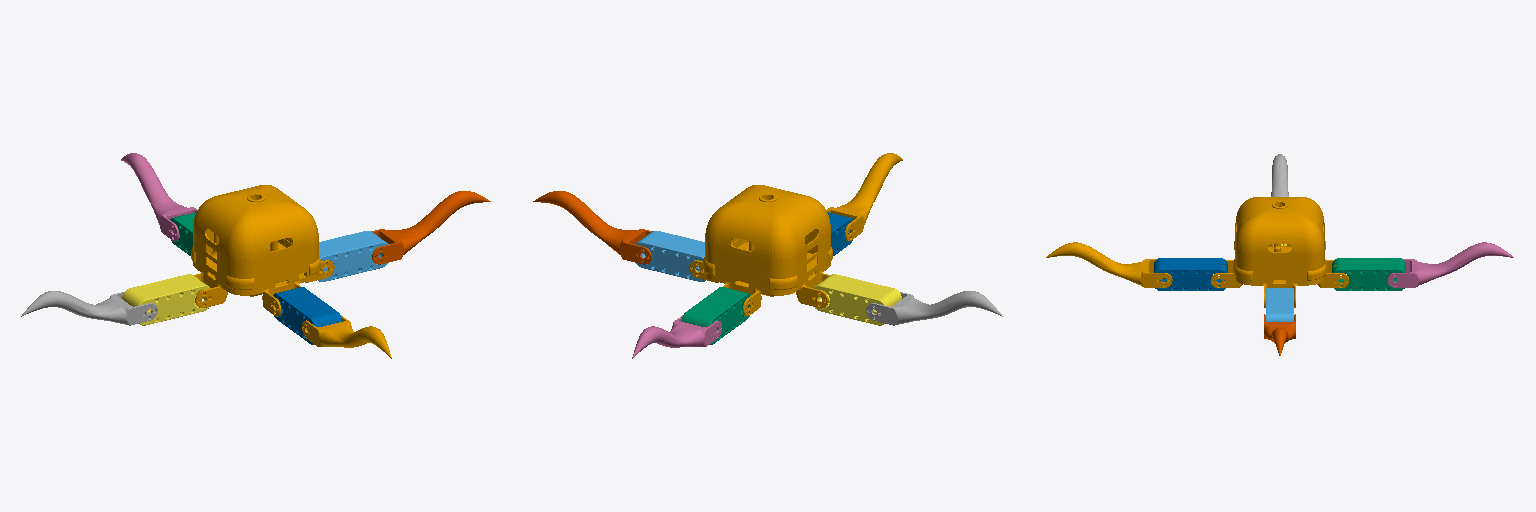
robot.urdf — spyndra:
<?xml version="1.0"?>
<robot name="spyndra">
  <gazebo>
    <plugin name="gazebo_ros_control" filename="libgazebo_ros_control.so">
      <robotNamespace>/spyndra</robotNamespace>
    </plugin>
  </gazebo>
  
  <gazebo>
    <plugin name="imu_plugin" filename="libgazebo_ros_imu.so">
      <alwaysOn>true</alwaysOn>
      <bodyName>base_link</bodyName>
      <topicName>imu</topicName>
      <serviceName>imu_service</serviceName>
      <gaussianNoise>0.0</gaussianNoise>
      <updateRate>20.0</updateRate>
    </plugin>
  </gazebo>

  <gazebo reference="base_link">
    <selfCollide>true</selfCollide>
  </gazebo>

  <gazebo reference="femur_1">
    <selfCollide>true</selfCollide>
  </gazebo>

  <gazebo reference="femur_2">
    <selfCollide>true</selfCollide>
  </gazebo>

  <gazebo reference="femur_3">
    <selfCollide>true</selfCollide>
  </gazebo>

  <gazebo reference="femur_4">
    <selfCollide>true</selfCollide>
  </gazebo>

  <gazebo reference="tibia_1">
    <selfCollide>true</selfCollide>
  </gazebo>

  <gazebo reference="tibia_2">
    <selfCollide>true</selfCollide>
  </gazebo>

  <gazebo reference="tibia_3">
    <selfCollide>true</selfCollide>
  </gazebo>

  <gazebo reference="tibia_4">
    <selfCollide>true</selfCollide>
  </gazebo>

  <link name="base_link">
    <visual>
      <geometry>
        <mesh filename="package://spyndra_description/meshes/chassis.stl"/>
      </geometry>
      <origin rpy="0 0 0" xyz="0 0 0"/>
    </visual>
    <collision>
      <geometry>
        <mesh filename="package://spyndra_description/meshes/chassis_col.stl"/>
      </geometry>
      <origin rpy="0 0 0" xyz="0 0 0"/>
    </collision>
    <inertial>
      <origin xyz="0 0 0" rpy="0 0 0"/>
      <mass value="0.5"/>
      <inertia
        ixx="0.084981" ixy="0.000124" ixz="-0.000077"
        iyy="0.083196" iyz="-0.000128"
        izz="0.099084"/>
    </inertial>
  </link>

  <link name="femur_1">
    <visual>
      <geometry>
        <mesh filename="package://spyndra_description/meshes/femur.stl"/>
      </geometry>
      <origin rpy="0 0 0" xyz="0.4 0 0"/>
    </visual>
    <collision>
      <geometry>
        <mesh filename="package://spyndra_description/meshes/femur_col.stl"/>
      </geometry>
      <origin rpy="0 0 0" xyz="0.4 0 0"/>
    </collision>
    <inertial>
      <origin rpy="0 0 0" xyz="0.4 0 0"/>
      <mass value="0.1"/>
      <inertia
        ixx="0.001433" ixy="0.000000" ixz="0.000000"
        iyy="0.004311" iyz="0.000000"
        izz="0.004255"/>
    </inertial>
  </link>

  <link name="femur_2">
    <visual>
      <geometry>
        <mesh filename="package://spyndra_description/meshes/femur.stl"/>
      </geometry>
      <origin rpy="0 0 1.57075" xyz="0 0.4 0"/>
    </visual>
    <collision>
      <geometry>
        <mesh filename="package://spyndra_description/meshes/femur_col.stl"/>
      </geometry>
      <origin rpy="0 0 1.57075" xyz="0 0.4 0"/>
    </collision>
    <inertial>
      <origin rpy="0 0 1.57075" xyz="0 0.4 0"/>
      <mass value="0.1"/>
      <inertia
        ixx="0.001433" ixy="0.000000" ixz="0.000000"
        iyy="0.004311" iyz="0.000000"
        izz="0.004255"/>
    </inertial>
  </link>

  <link name="femur_3">
    <visual>
      <geometry>
        <mesh filename="package://spyndra_description/meshes/femur.stl"/>
      </geometry>
      <origin rpy="0 0 3.1415" xyz="-0.4 0 0"/>
    </visual>
    <collision>
      <geometry>
        <mesh filename="package://spyndra_description/meshes/femur_col.stl"/>
      </geometry>
      <origin rpy="0 -0 3.1415" xyz="-0.4 0 0"/>
    </collision>
    <inertial>
      <origin rpy="0 0 3.1415" xyz="-0.4 0 0"/>
      <mass value="0.1"/>
      <inertia
        ixx="0.001433" ixy="0.000000" ixz="0.000000"
        iyy="0.004311" iyz="0.000000"
        izz="0.004255"/>
    </inertial>
  </link>

  <link name="femur_4">
    <visual>
      <geometry>
        <mesh filename="package://spyndra_description/meshes/femur.stl"/>
      </geometry>
      <origin rpy="0 0 -1.57075" xyz="0 -0.4 0"/>
    </visual>
    <collision>
      <geometry>
        <mesh filename="package://spyndra_description/meshes/femur_col.stl"/>
      </geometry>
      <origin rpy="0 0 -1.57075" xyz="0 -0.4 0"/>
    </collision>
    <inertial>
      <origin rpy="0 0 -1.57075" xyz="0 -0.4 0"/>
      <mass value="0.1"/>
      <inertia
        ixx="0.001433" ixy="0.000000" ixz="0.000000"
        iyy="0.004311" iyz="0.000000"
        izz="0.004255"/>
    </inertial>
  </link>

  <link name="tibia_1">
    <visual>
      <geometry>
        <mesh filename="package://spyndra_description/meshes/tibia.stl"/>
      </geometry>
      <origin rpy="1.57075 0 -1.57075" xyz="0.8 0 0.2"/>
    </visual>
    <collision>
      <geometry>
        <mesh filename="package://spyndra_description/meshes/tibia_col.stl"/>
      </geometry>
      <origin rpy="1.57075 0 -1.57075" xyz="0.8 0 0.2"/>
    </collision>
    <inertial>
      <origin rpy="1.57075 0 -1.57075" xyz="0.8 0 0.2"/>
      <mass value="0.1"/>
      <inertia
        ixx="0.012986" ixy="0.000000" ixz="0.000000"
        iyy="0.012051" iyz="0.003922"
        izz="0.002521"/>
    </inertial>
  </link>

  <link name="tibia_2">
    <visual>
      <geometry>
        <mesh filename="package://spyndra_description/meshes/tibia.stl"/>
      </geometry>
      <origin rpy="1.57075 0 0" xyz="0 0.8 0.2"/>
    </visual>
    <collision>
      <geometry>
        <mesh filename="package://spyndra_description/meshes/tibia_col.stl"/>
      </geometry>
      <origin rpy="1.57075 0 0" xyz="0 0.8 0.2"/>
    </collision>
    <inertial>
      <origin rpy="1.57075 0 0" xyz="0 0.8 0.2"/>
      <mass value="0.1"/>
      <inertia
        ixx="0.012986" ixy="0.000000" ixz="0.000000"
        iyy="0.012051" iyz="0.003922"
        izz="0.002521"/>
    </inertial>
  </link>

  <link name="tibia_3">
    <visual>
      <geometry>
        <mesh filename="package://spyndra_description/meshes/tibia.stl"/>
      </geometry>
      <origin rpy="1.57075 0 1.57075" xyz="-0.8 0 0.2"/>
    </visual>
    <collision>
      <geometry>
        <mesh filename="package://spyndra_description/meshes/tibia_col.stl"/>
      </geometry>
      <origin rpy="1.57075 0 1.57075" xyz="-0.8 0 0.2"/>
    </collision>
    <inertial>
      <origin rpy="1.57075 0 1.57075" xyz="-0.8 0 0.2"/>
      <mass value="0.1"/>
      <inertia
        ixx="0.012986" ixy="0.000000" ixz="0.000000"
        iyy="0.012051" iyz="0.003922"
        izz="0.002521"/>
    </inertial>
  </link>

  <link name="tibia_4">
    <visual>
      <geometry>
        <mesh filename="package://spyndra_description/meshes/tibia.stl"/>
      </geometry>
      <origin rpy="1.57075 0 3.1415" xyz="0 -0.8 0.2"/>
    </visual>
    <collision>
      <geometry>
        <mesh filename="package://spyndra_description/meshes/tibia_col.stl"/>
      </geometry>
      <origin rpy="1.57075 0 3.1415" xyz="0 -0.8 0.2"/>
    </collision>
    <inertial>
      <origin rpy="1.57075 0 3.1415" xyz="0 -0.8 0.2"/>
      <mass value="0.1"/>
      <inertia
        ixx="0.012986" ixy="0.000000" ixz="0.000000"
        iyy="0.012051" iyz="0.003922"
        izz="0.002521"/>
    </inertial>
  </link>

  <joint name="base_to_femur_1" type="revolute">
    <origin rpy="0 0 0" xyz="0.9 0 -0.2"/>
    <axis xyz="0 1 0"/>
    <limit effort="200.0" lower="-1.5" upper="1.5" velocity="0.1"/>
    <parent link="base_link"/>
    <child link="femur_1"/>
  </joint>

  <joint name="base_to_femur_2" type="revolute">
    <origin rpy="0 0 0" xyz="0 0.9 -0.2"/>
    <axis xyz="-1 0 0"/>
    <limit effort="200.0" lower="-1.5" upper="1.5" velocity="0.1"/>
    <parent link="base_link"/>
    <child link="femur_2"/>
  </joint>

  <joint name="base_to_femur_3" type="revolute">
    <origin rpy="0 0 0" xyz="-0.9 0 -0.2"/>
    <axis xyz="0 -1 0"/>
    <limit effort="200.0" lower="-1.5" upper="1.5" velocity="0.1"/>
    <parent link="base_link"/>
    <child link="femur_3"/>
  </joint>

  <joint name="base_to_femur_4" type="revolute">
    <origin rpy="0 0 0" xyz="0 -0.9 -0.2"/>
    <axis xyz="1 0 0"/>
    <limit effort="200.0" lower="-1.5" upper="1.5" velocity="0.1"/>
    <parent link="base_link"/>
    <child link="femur_4"/>
  </joint>

  <joint name="femur_to_tibia_1" type="revolute">
    <origin rpy="0 0 0" xyz="0.8 0 0"/>
    <axis xyz="0 1 0"/>
    <limit effort="200.0" lower="-1.5" upper="1.5" velocity="0.1"/>
    <parent link="femur_1"/>
    <child link="tibia_1"/>
  </joint>

  <joint name="femur_to_tibia_2" type="revolute">
    <origin rpy="0 0 0" xyz="0 0.8 0"/>
    <axis xyz="-1 0 0"/>
    <limit effort="200.0" lower="-1.5" upper="1.5" velocity="0.1"/>
    <parent link="femur_2"/>
    <child link="tibia_2"/>
  </joint>

  <joint name="femur_to_tibia_3" type="revolute">
    <origin rpy="0 0 0" xyz="-0.8 0 0"/>
    <axis xyz="0 -1 0"/>
    <limit effort="200.0" lower="-1.5" upper="1.5" velocity="0.1"/>
    <parent link="femur_3"/>
    <child link="tibia_3"/>
  </joint>

  <joint name="femur_to_tibia_4" type="revolute">
    <origin rpy="0 0 0" xyz="0 -0.8 0"/>
    <axis xyz="1 0 0"/>
    <limit effort="200.0" lower="-1.5" upper="1.5" velocity="0.1"/>
    <parent link="femur_4"/>
    <child link="tibia_4"/>
  </joint>

  <transmission name="tran1">
    <type>transmission_interface/SimpleTransmission</type>
    <joint name="base_to_femur_1">
      <hardwareInterface>EffortJointInterface</hardwareInterface>
    </joint>
    <actuator name="motor1">
      <hardwareInterface>EffortJointInterface</hardwareInterface>
      <mechanicalReduction>1</mechanicalReduction>
    </actuator>
  </transmission>

  <transmission name="tran2">
    <type>transmission_interface/SimpleTransmission</type>
    <joint name="base_to_femur_2">
      <hardwareInterface>EffortJointInterface</hardwareInterface>
    </joint>
    <actuator name="motor2">
      <hardwareInterface>EffortJointInterface</hardwareInterface>
      <mechanicalReduction>1</mechanicalReduction>
    </actuator>
  </transmission>

  <transmission name="tran3">
    <type>transmission_interface/SimpleTransmission</type>
    <joint name="base_to_femur_3">
      <hardwareInterface>EffortJointInterface</hardwareInterface>
    </joint>
    <actuator name="motor3">
      <hardwareInterface>EffortJointInterface</hardwareInterface>
      <mechanicalReduction>1</mechanicalReduction>
    </actuator>
  </transmission>

  <transmission name="tran4">
    <type>transmission_interface/SimpleTransmission</type>
    <joint name="base_to_femur_4">
      <hardwareInterface>EffortJointInterface</hardwareInterface>
    </joint>
    <actuator name="motor4">
      <hardwareInterface>EffortJointInterface</hardwareInterface>
      <mechanicalReduction>1</mechanicalReduction>
    </actuator>
  </transmission>

  <transmission name="tran5">
    <type>transmission_interface/SimpleTransmission</type>
    <joint name="femur_to_tibia_1">
      <hardwareInterface>EffortJointInterface</hardwareInterface>
    </joint>
    <actuator name="motor5">
      <hardwareInterface>EffortJointInterface</hardwareInterface>
      <mechanicalReduction>1</mechanicalReduction>
    </actuator>
  </transmission>

  <transmission name="tran6">
    <type>transmission_interface/SimpleTransmission</type>
    <joint name="femur_to_tibia_2">
      <hardwareInterface>EffortJointInterface</hardwareInterface>
    </joint>
    <actuator name="motor6">
      <hardwareInterface>EffortJointInterface</hardwareInterface>
      <mechanicalReduction>1</mechanicalReduction>
    </actuator>
  </transmission>

  <transmission name="tra71">
    <type>transmission_interface/SimpleTransmission</type>
    <joint name="femur_to_tibia_3">
      <hardwareInterface>EffortJointInterface</hardwareInterface>
    </joint>
    <actuator name="motor7">
      <hardwareInterface>EffortJointInterface</hardwareInterface>
      <mechanicalReduction>1</mechanicalReduction>
    </actuator>
  </transmission>

  <transmission name="tran8">
    <type>transmission_interface/SimpleTransmission</type>
    <joint name="femur_to_tibia_4">
      <hardwareInterface>EffortJointInterface</hardwareInterface>
    </joint>
    <actuator name="motor8">
      <hardwareInterface>EffortJointInterface</hardwareInterface>
      <mechanicalReduction>1</mechanicalReduction>
    </actuator>
  </transmission>
</robot>

--- Render facts (derived) ---
3 views of the same robot in one strip: view 1: azimuth 30°, elevation 25°; view 2: azimuth 150°, elevation 25°; view 3: azimuth 270°, elevation 25° (orthographic).
Model spyndra with 9 links and 8 joints (8 revolute), rooted at base_link, posed all joints at 0.
Visible links, largest first — view 1: base_link, femur_3, tibia_1, tibia_3, femur_1, femur_4, tibia_2, tibia_4, femur_2; view 2: base_link, femur_3, tibia_1, tibia_3, femur_1, femur_2, tibia_4, tibia_2, femur_4; view 3: base_link, femur_2, femur_4, tibia_2, tibia_4, femur_1, tibia_1, tibia_3.
Boxes of the visible links, bbox=[...] form: base_link: bbox=[180, 185, 334, 316]; femur_3: bbox=[122, 274, 209, 325]; tibia_1: bbox=[372, 191, 490, 264]; tibia_3: bbox=[21, 291, 157, 325]; femur_1: bbox=[318, 231, 388, 281]; femur_4: bbox=[273, 287, 342, 344]; tibia_2: bbox=[121, 153, 197, 241]; tibia_4: bbox=[302, 315, 391, 358]; femur_2: bbox=[170, 212, 196, 255]; base_link: bbox=[689, 185, 843, 316]; femur_3: bbox=[814, 274, 901, 325]; tibia_1: bbox=[533, 191, 651, 264]; tibia_3: bbox=[866, 291, 1002, 325]; femur_1: bbox=[635, 231, 705, 281]; femur_2: bbox=[682, 287, 750, 344]; tibia_4: bbox=[826, 153, 902, 241]; tibia_2: bbox=[632, 315, 721, 358]; femur_4: bbox=[827, 212, 853, 255]; base_link: bbox=[1211, 197, 1348, 307]; femur_2: bbox=[1332, 258, 1405, 290]; femur_4: bbox=[1154, 258, 1227, 290]; tibia_2: bbox=[1387, 242, 1513, 287]; tibia_4: bbox=[1046, 242, 1172, 287]; femur_1: bbox=[1266, 288, 1293, 321]; tibia_1: bbox=[1264, 314, 1295, 355]; tibia_3: bbox=[1271, 154, 1288, 196].
Size in the robot's own frame: 6.87 by 6.87 by 1.31 metres.
9 mesh visuals loaded from 3 distinct referenced files (3 binary STL).
